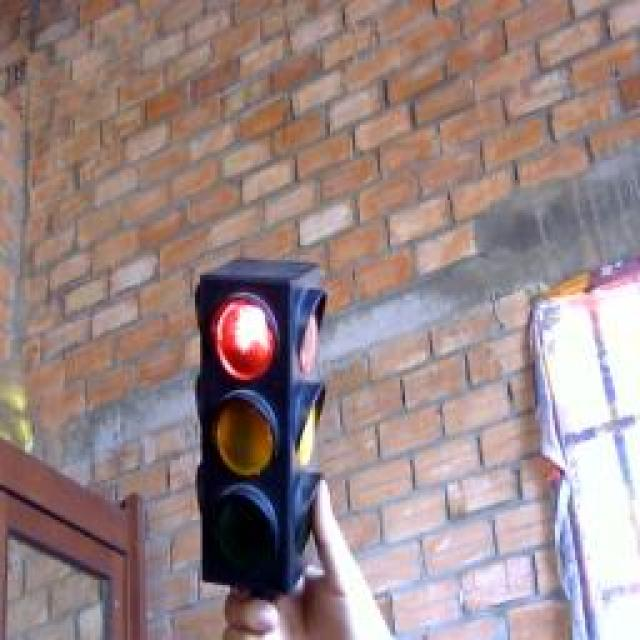-: (203, 279, 298, 391)
